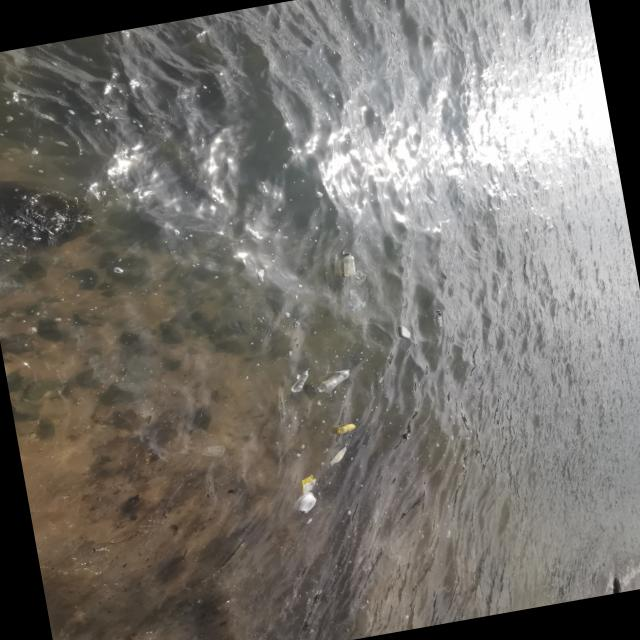foam: (288, 492, 317, 516), (396, 324, 410, 340)
plastic: (314, 368, 352, 393), (286, 367, 312, 392), (338, 252, 356, 278), (334, 422, 356, 434), (434, 308, 444, 328)
plastic bottle: (296, 473, 317, 496), (346, 288, 364, 312), (200, 443, 226, 458), (350, 268, 366, 284)
unknow: (322, 443, 352, 467)
